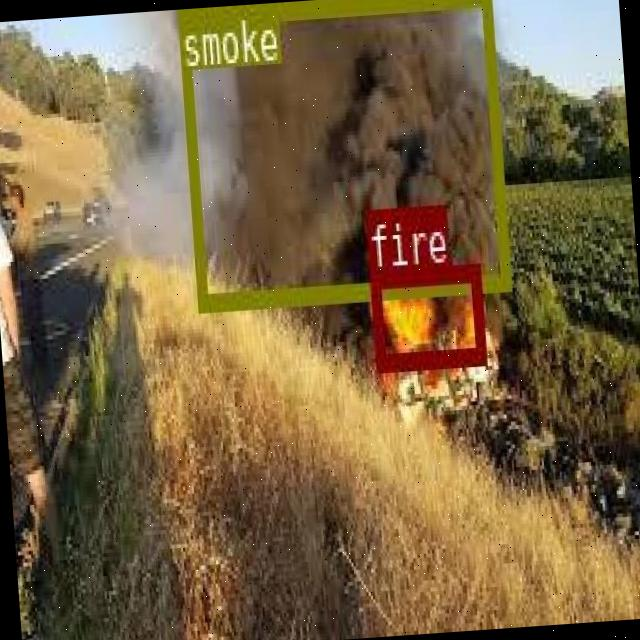fire: (368, 262, 484, 369)
smoke: (175, 0, 507, 305)
